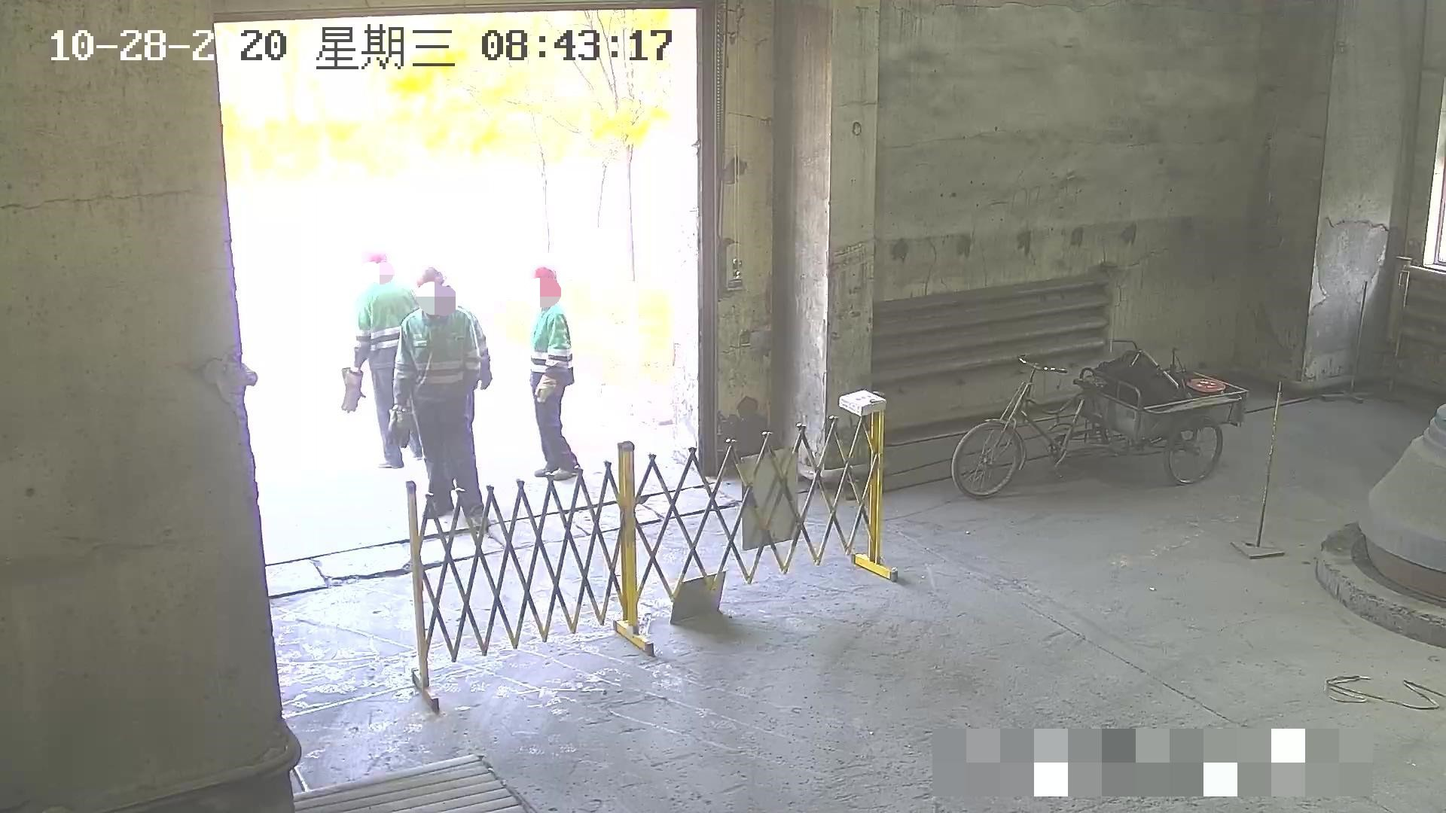hat: (416, 266, 450, 311), (527, 266, 557, 303), (362, 251, 387, 282)
person: (388, 263, 487, 528), (346, 250, 427, 473), (523, 263, 585, 483)
